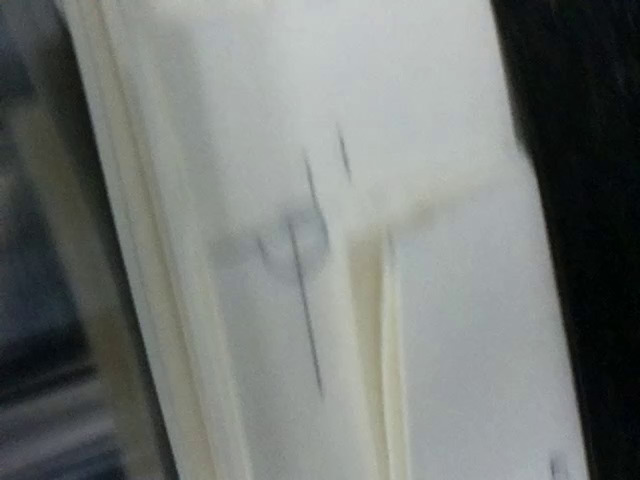not_sure: (208, 150, 342, 296)
